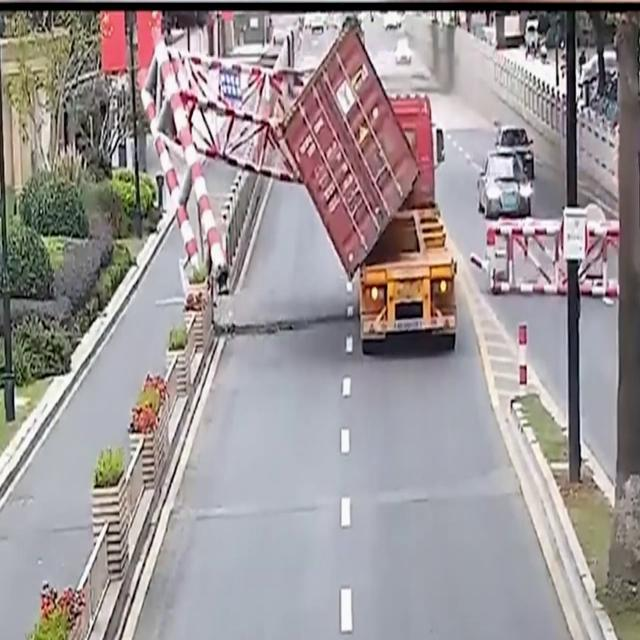accident: (272, 20, 454, 358)
non-accident: (476, 125, 536, 222)
